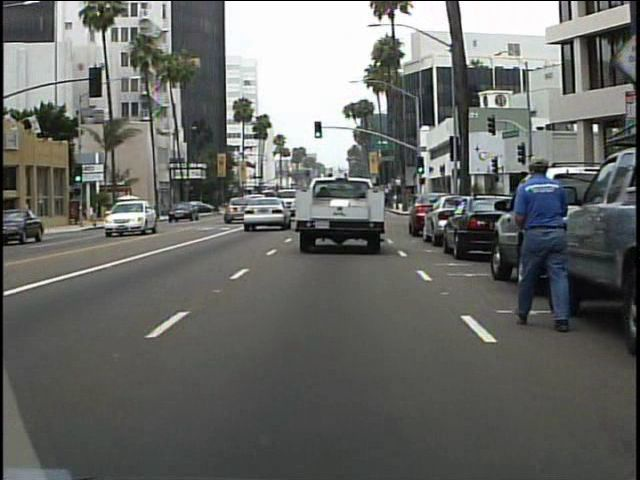person: (499, 145, 581, 336)
